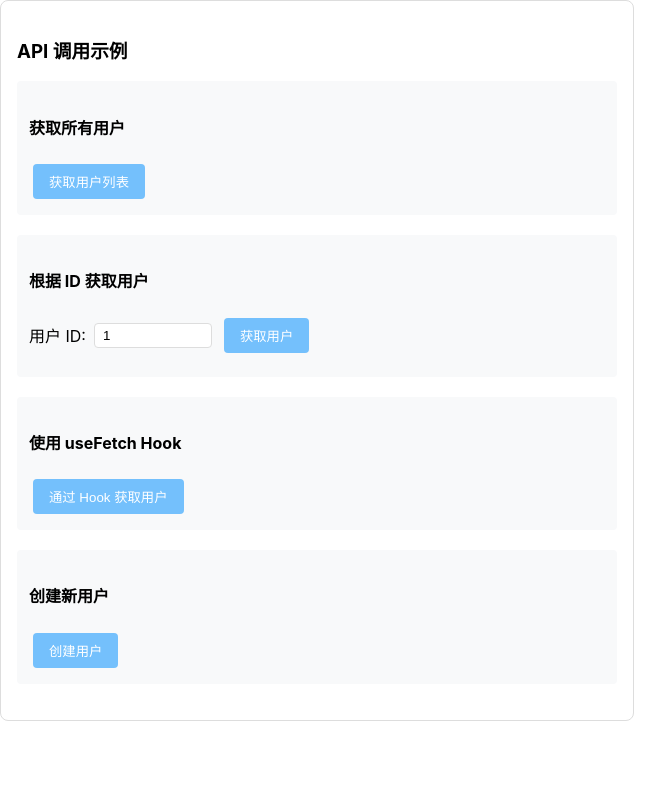
Test: ApiExample组件 › 根据ID获取用户功能 › 应该验证用户ID的有效性
This screenshot has width=651, height=794.
Replace the text in the number field with test id "user-id-input" with "abc": (153, 335) x1=94 y1=322 x2=212 y2=348
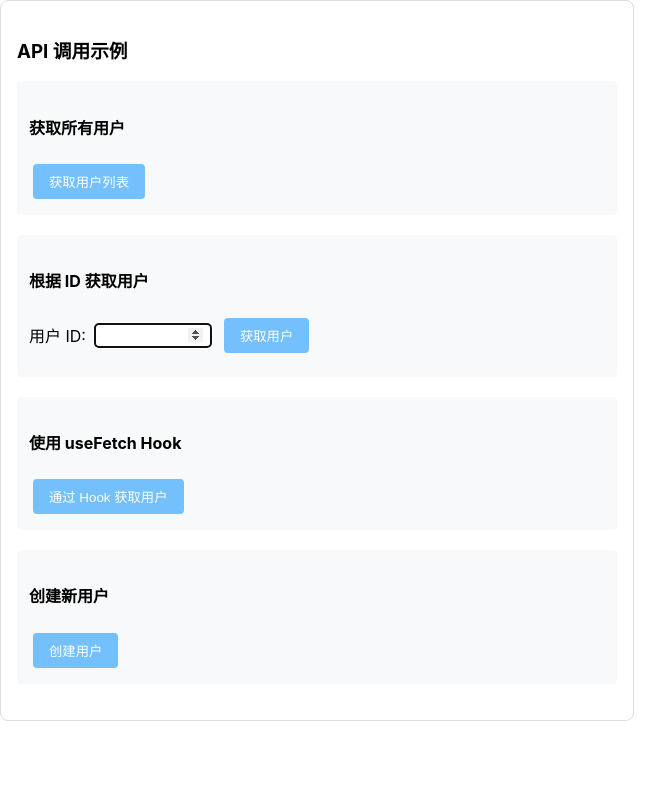
Click the button with test id "get-user-button": (267, 335) x1=224 y1=318 x2=309 y2=352
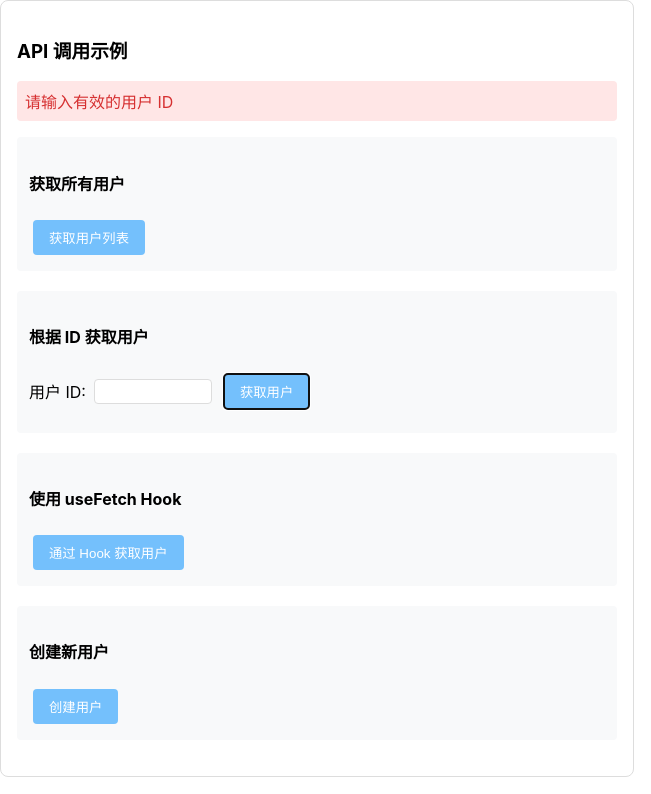
Check: the text "请输入有效的用户 ID" is shown, box x1=17 y1=81 x2=617 y2=121
